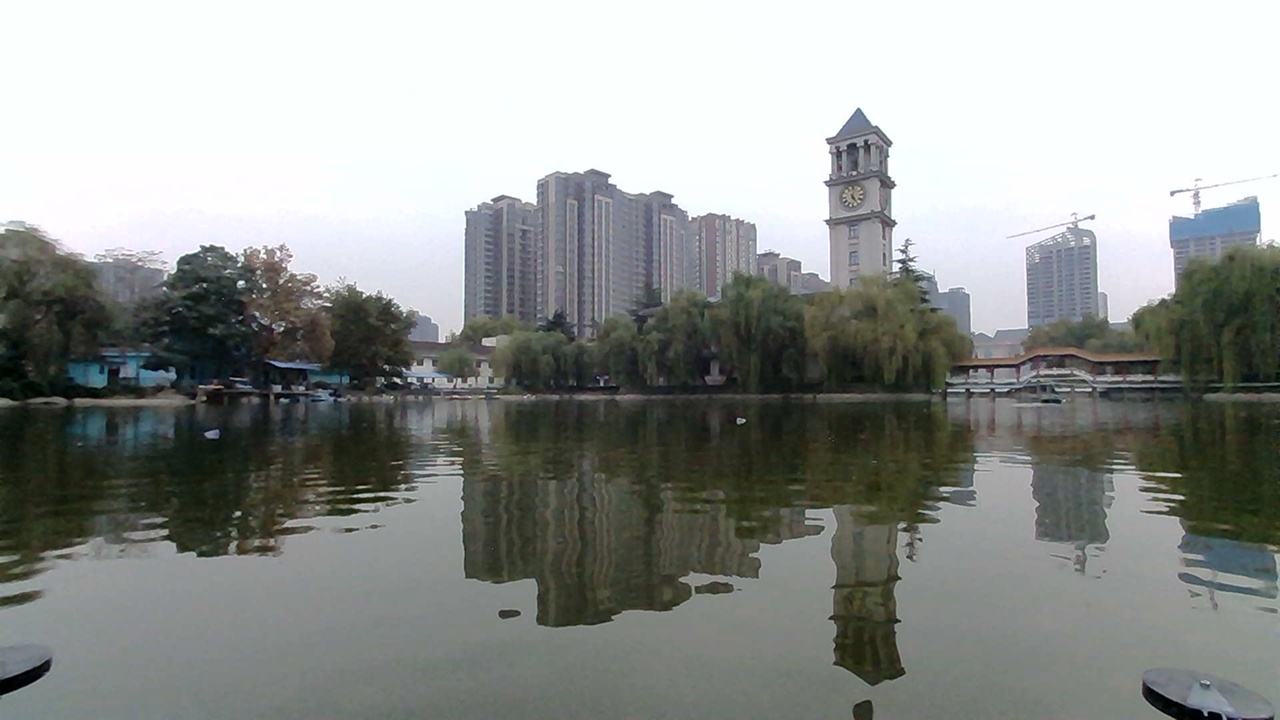bottle: (195, 415, 244, 452), (727, 402, 770, 431)
